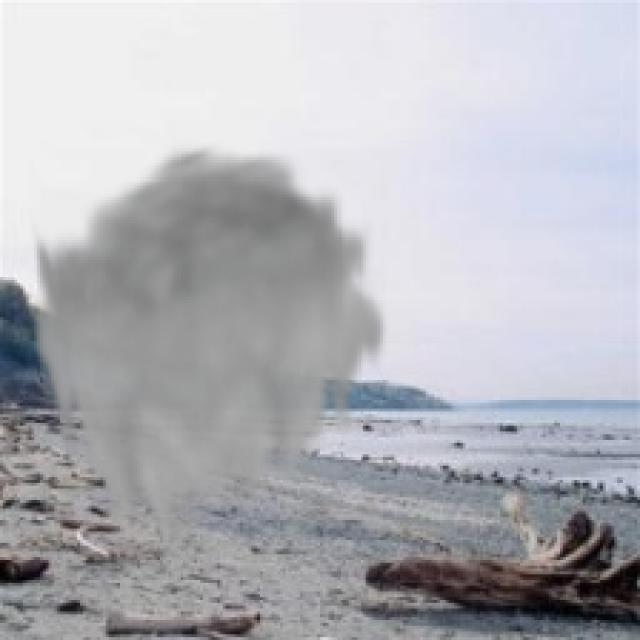smoke: (29, 137, 392, 563)
